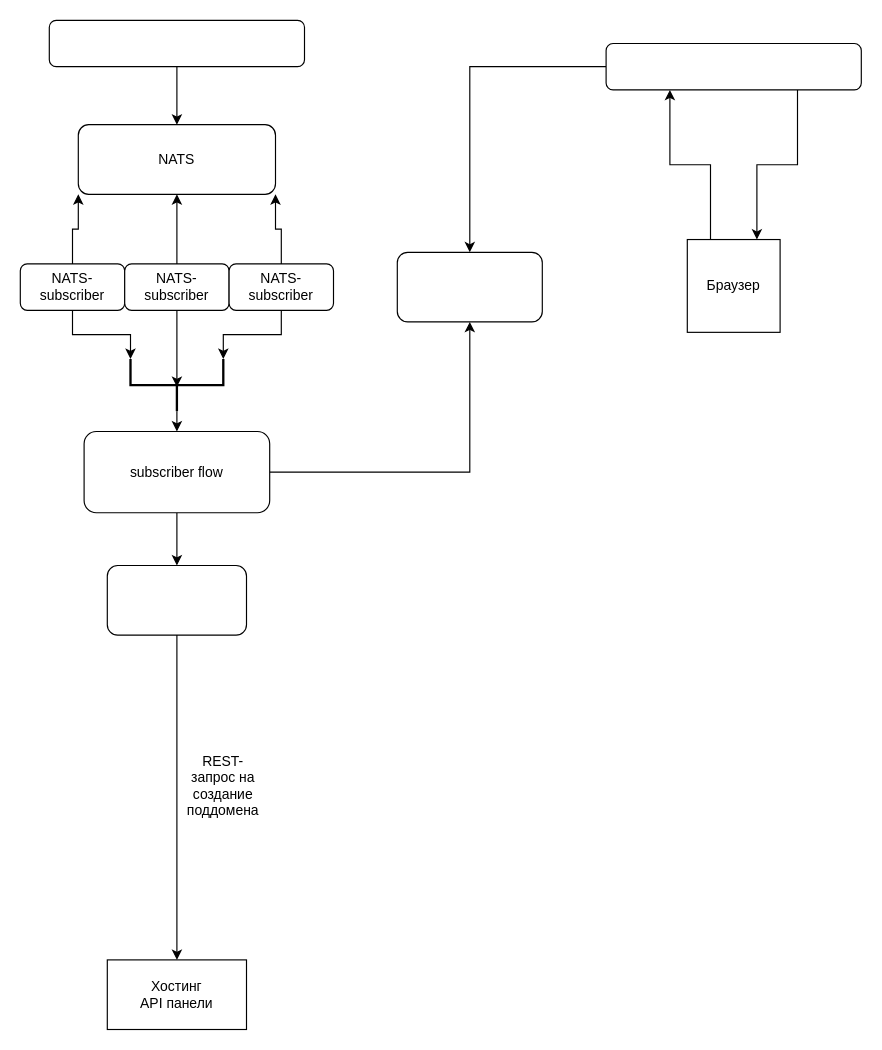
This 882x1050 diagram has some shape labels left out. The centre of each missing label's shape, as x and y in pixels:
MongoDB: the point at 469,286
WEB-сервер: the point at 733,66
Прослушивание telegram-бота: the point at 176,43
Сервис работы с хостингом: the point at 176,599
